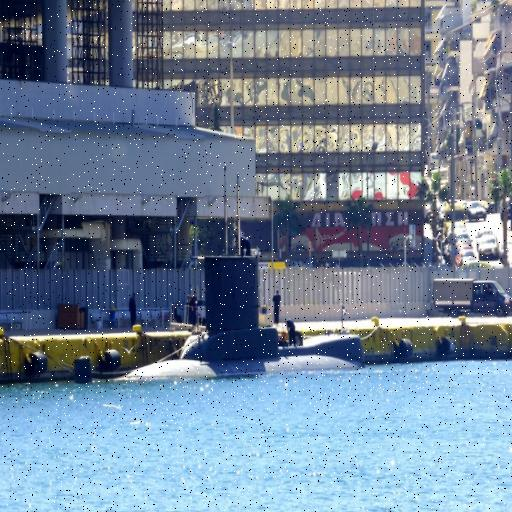submarine: (112, 251, 373, 384)
